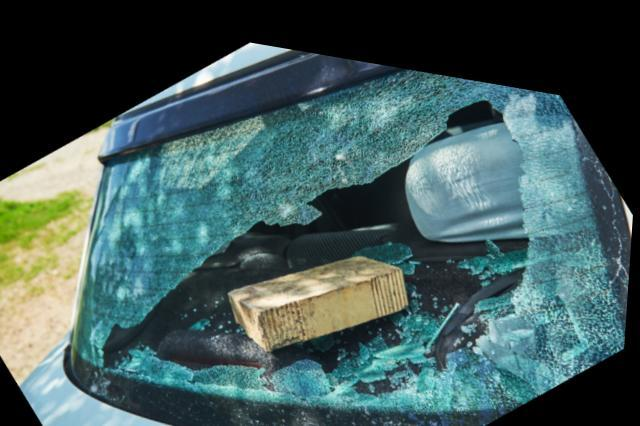glass shatter: (75, 55, 633, 426)
